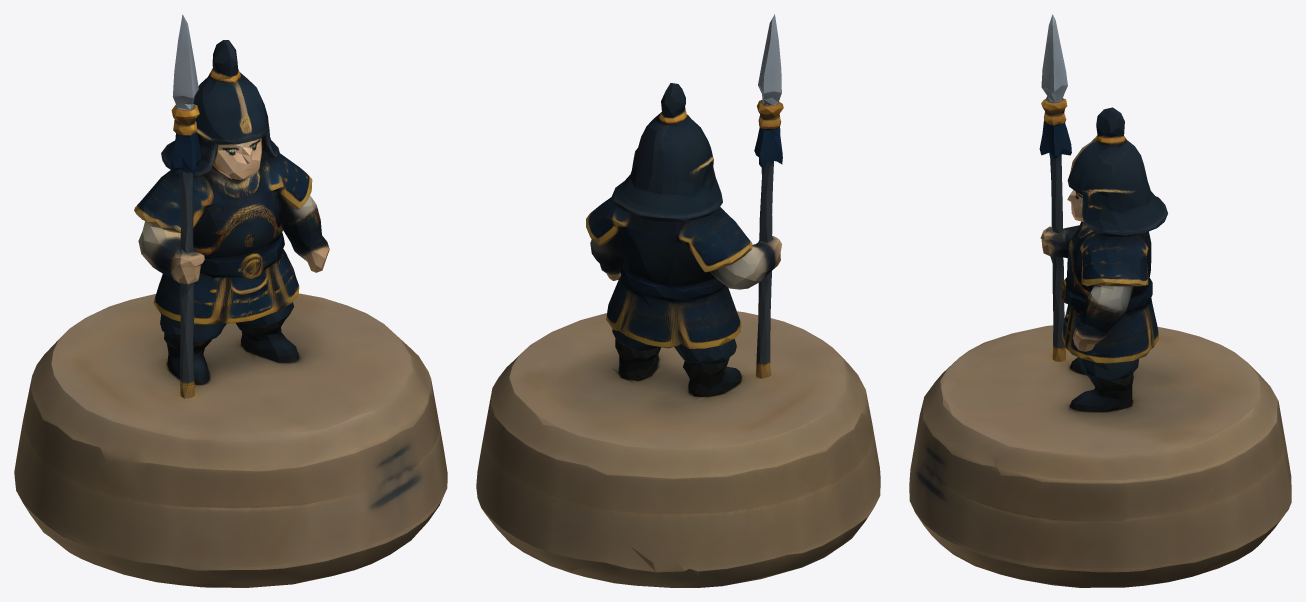
Rendered from soldier_black.glb.
3 renders of one model, left to right at view 1: azimuth 30°, elevation 25°; view 2: azimuth 150°, elevation 25°; view 3: azimuth 270°, elevation 25°, orthographic. The views are drawn at different scales.
Visible parts, largest first — view 1: Mesh; view 2: Mesh; view 3: Mesh.
Boxes of the visible parts, x1,y1,x2,y2 form: Mesh: (14, 14, 447, 587); Mesh: (476, 14, 880, 587); Mesh: (909, 14, 1291, 587).
Size of the model in its own units: 1.4 by 1.9 by 1.41.
Materials: 1 (1 with a texture image).
